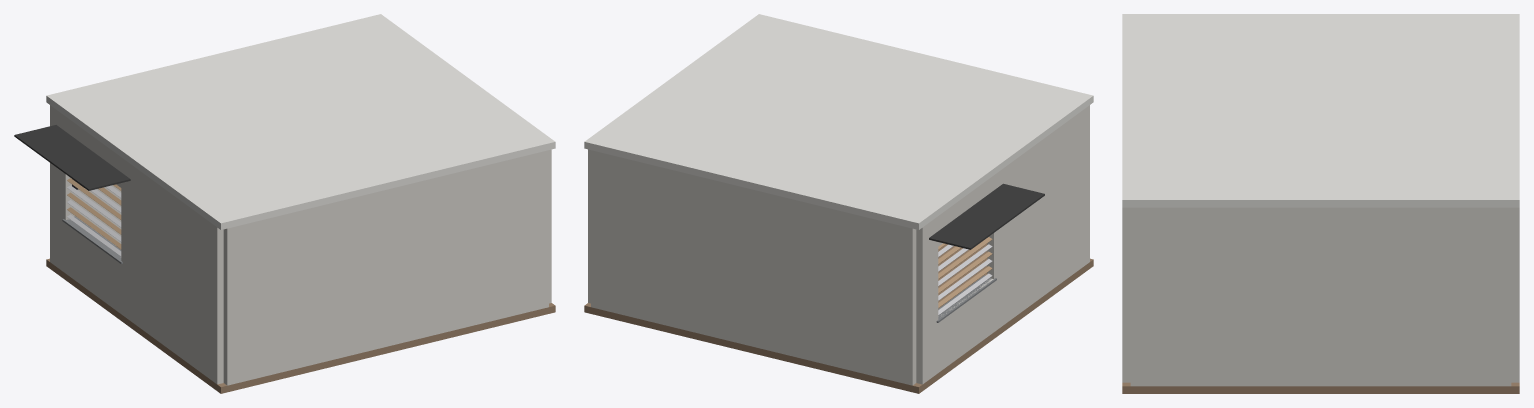
File: room.glb
3 views of the same model, side by side, from view 1: azimuth 30°, elevation 25°; view 2: azimuth 150°, elevation 25°; view 3: azimuth 270°, elevation 25° (orthographic). The views are drawn at different scales.
Visible parts, largest first — view 1: ceiling, front wall, window wall front, floor, awning, window wall below, window wall back, window wall above, back wall, sill; view 2: ceiling, back wall, window wall front, floor, window wall back, awning, window wall below, window wall above, sill, right wall; view 3: ceiling, right wall, floor, back wall, front wall.
Boxes of the visible parts, x1,y1,x2,y2 form: ceiling: [46, 14, 555, 229]; front wall: [223, 150, 548, 385]; window wall front: [121, 157, 223, 384]; floor: [46, 246, 555, 393]; awning: [14, 125, 130, 190]; window wall below: [65, 224, 121, 313]; window wall back: [50, 105, 71, 273]; window wall above: [65, 117, 121, 187]; back wall: [72, 185, 121, 245]; sill: [62, 216, 122, 263]; ceiling: [584, 14, 1093, 229]; back wall: [591, 150, 916, 385]; window wall front: [987, 105, 1089, 331]; floor: [584, 238, 1093, 393]; window wall back: [916, 216, 938, 384]; awning: [929, 183, 1044, 249]; window wall below: [938, 278, 993, 372]; window wall above: [938, 175, 993, 246]; sill: [936, 275, 996, 322]; right wall: [588, 149, 590, 303]; ceiling: [1122, 14, 1519, 207]; right wall: [1130, 207, 1511, 386]; floor: [1122, 382, 1519, 393]; back wall: [1511, 207, 1519, 382]; front wall: [1122, 207, 1130, 382].
Size of the model in its own units: 7.02 by 3.04 by 5.64.
